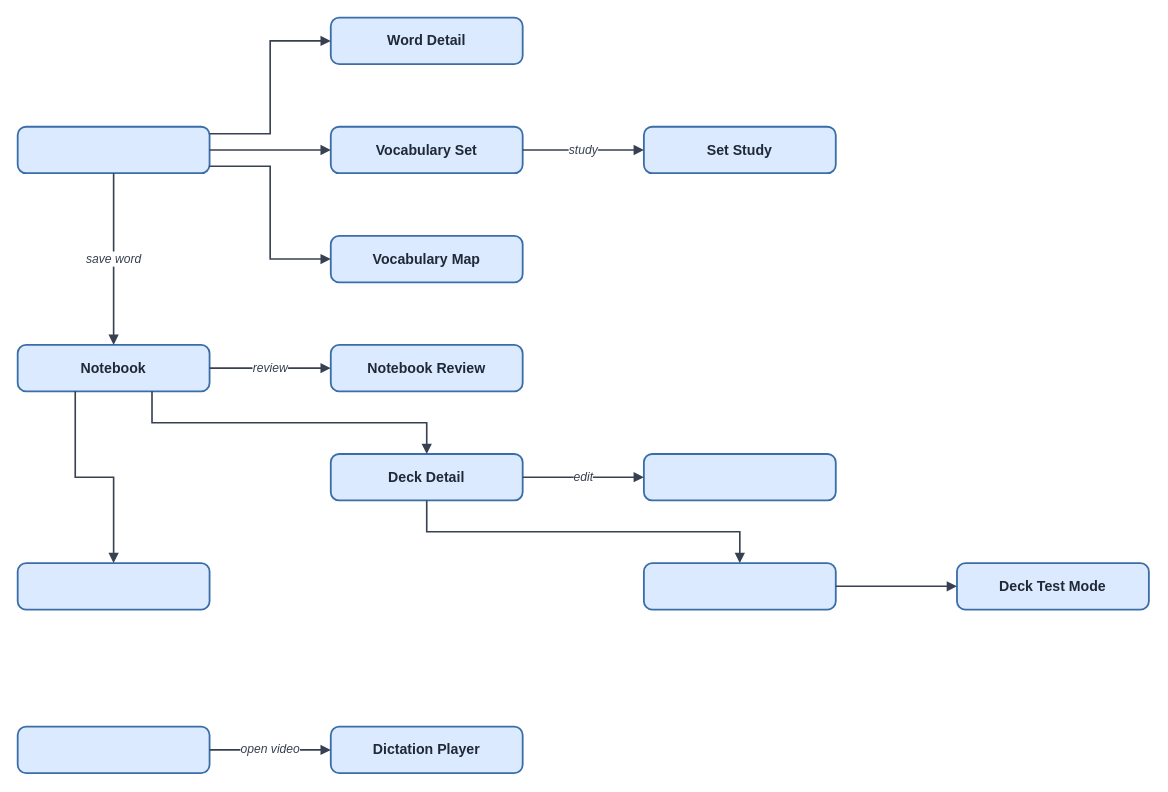
Some shapes in this 1168 by 792 pixel diagram are drawn without their labels. The box of each missing label's shape, as (x1, y1, x2, y2) in pixels:
Deck Editor: (642, 453, 836, 501)
Deck Learn Mode: (642, 562, 836, 610)
Dictation Library: (16, 725, 210, 774)
Flashcard Study: (16, 562, 210, 610)
Vocabulary: (16, 125, 210, 174)
